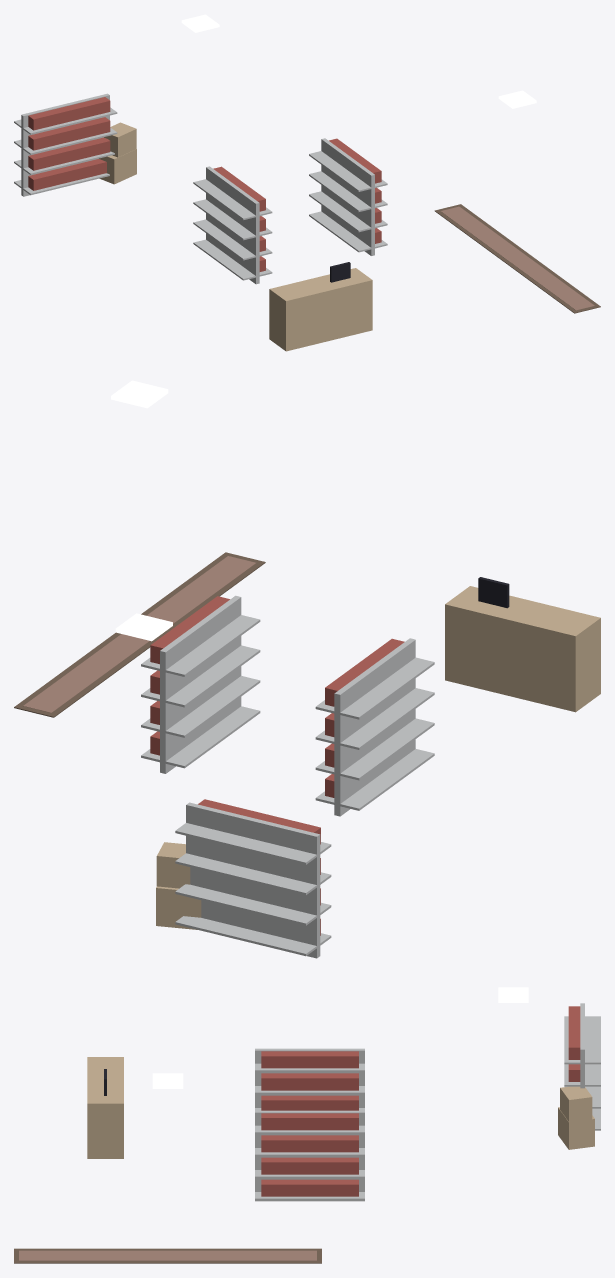
The model's file is fine-s0.glb.
3 views of the same model, one above another, from view 1: azimuth 30°, elevation 25°; view 2: azimuth 150°, elevation 25°; view 3: azimuth 270°, elevation 25° (orthographic). The views are drawn at different scales.
Visible parts, largest first — view 1: shelving.000, shop-counter.000, shelf.001, shelf.000, soft-s0, cardboard-box.000; view 2: shelving.000, shop-counter.000, shelf.001, shelf.000, soft-s0, cardboard-box.000, ceiling-lamp.001, ceiling-lamp.000; view 3: shelf.001, shelf.000, soft-s0, shop-counter.000, shelving.000, cardboard-box.000, ceiling-lamp.000, ceiling-lamp.001.
Boxes of the visible parts, x1,y1,x2,y2 form: shelving.000: (14, 93, 117, 196); shop-counter.000: (269, 262, 372, 351); shelf.001: (309, 138, 387, 255); shelf.000: (193, 166, 272, 284); soft-s0: (434, 204, 600, 313); cardboard-box.000: (99, 122, 136, 184); shelving.000: (175, 799, 331, 958); shop-counter.000: (445, 577, 600, 712); shelf.001: (141, 595, 260, 773); shelf.000: (315, 638, 434, 816); soft-s0: (14, 552, 265, 717); cardboard-box.000: (156, 842, 201, 929); ceiling-lamp.001: (115, 613, 172, 641); ceiling-lamp.000: (111, 380, 168, 408); shelf.001: (255, 1110, 364, 1201); shelf.000: (255, 1048, 364, 1110); soft-s0: (14, 1248, 321, 1263); shop-counter.000: (87, 1057, 123, 1158); shelving.000: (564, 1003, 600, 1130); cardboard-box.000: (558, 1086, 594, 1149); ceiling-lamp.000: (152, 1073, 183, 1088); ceiling-lamp.001: (498, 987, 528, 1002).
Size of the model in its own units: 6.66 by 3.19 by 9.61.
